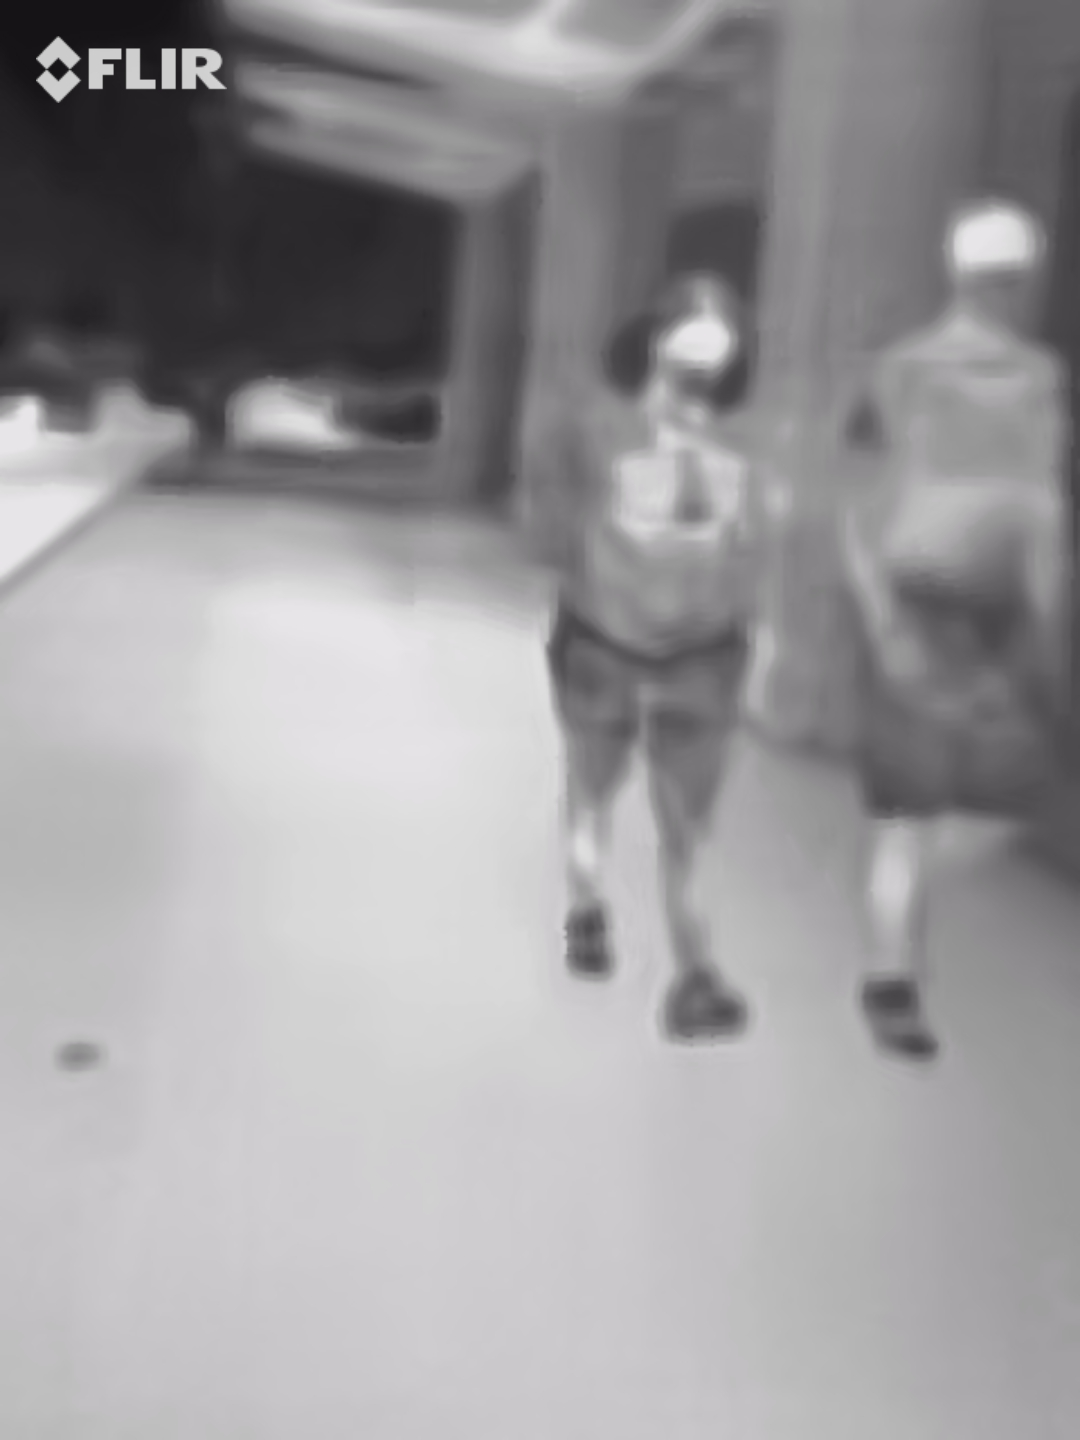head: (647, 272, 744, 410)
